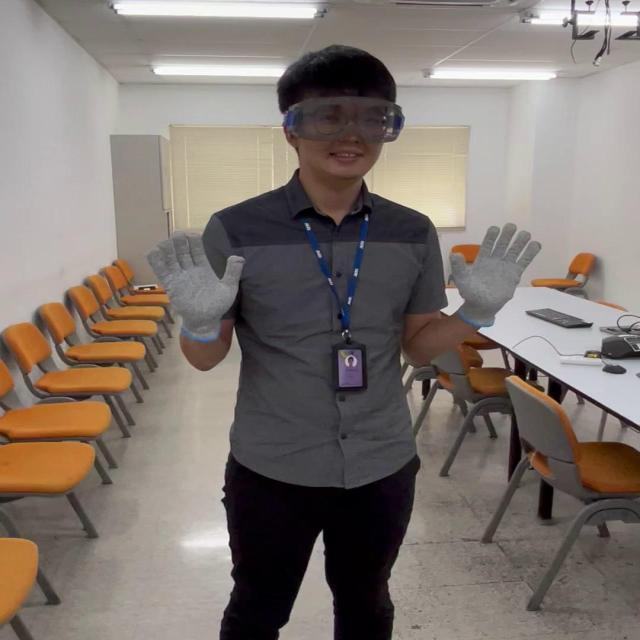gloved_hand: (434, 216, 540, 320), (152, 226, 250, 338)
